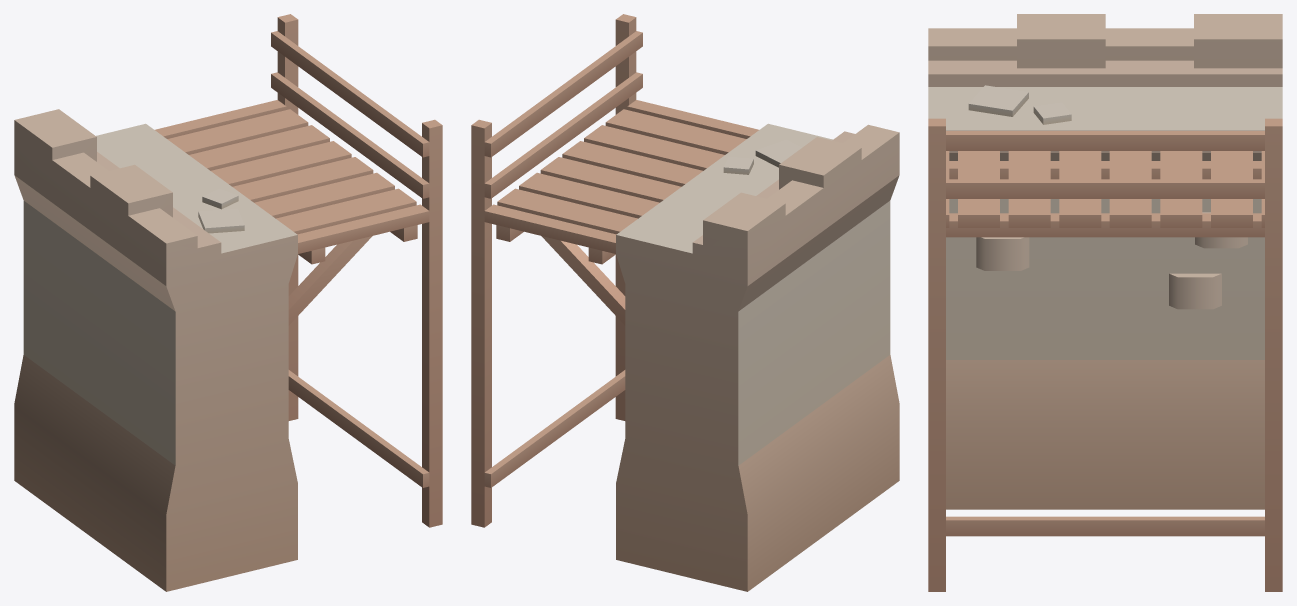
File: wall-narrow-wood-fence.glb
3 renders of one model, left to right at view 1: azimuth 30°, elevation 25°; view 2: azimuth 150°, elevation 25°; view 3: azimuth 270°, elevation 25°, orthographic. The views are drawn at different scales.
Visible parts, largest first — view 1: wall-narrow-wood-fence; view 2: wall-narrow-wood-fence; view 3: wall-narrow-wood-fence.
Boxes of the visible parts, left/top/right/bottom form: wall-narrow-wood-fence: left=14, top=14, right=442, bottom=591; wall-narrow-wood-fence: left=471, top=14, right=899, bottom=591; wall-narrow-wood-fence: left=928, top=14, right=1282, bottom=591.
Size of the model in its own units: 1.05 by 1.45 by 1.
